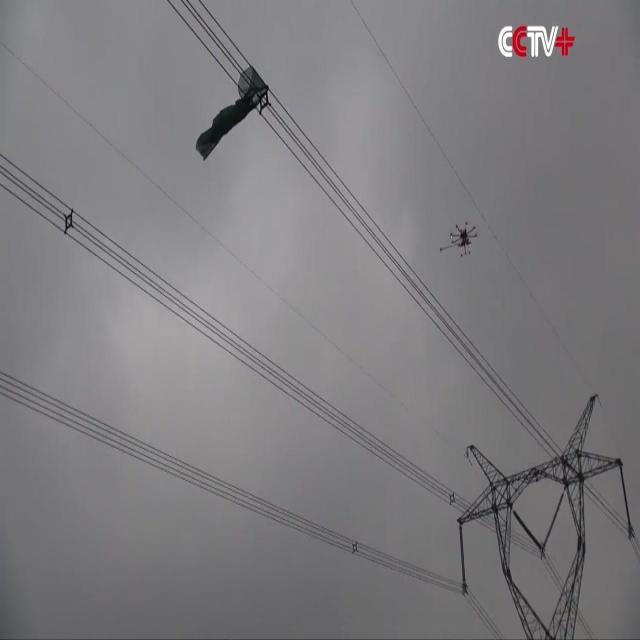UAV: (440, 220, 478, 258)
